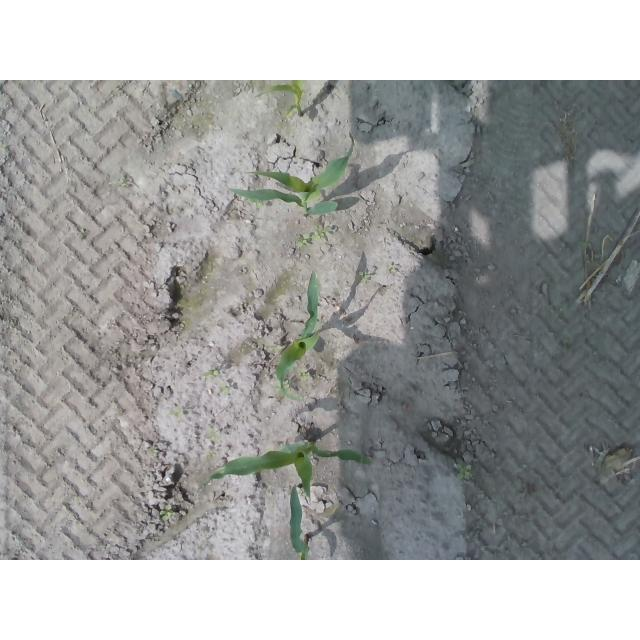Maize: (227, 132, 355, 218), (205, 441, 372, 503), (271, 271, 323, 402), (253, 82, 306, 119), (287, 485, 312, 560)
Weeds: (454, 463, 474, 481), (159, 503, 177, 521), (312, 227, 330, 242), (207, 426, 221, 442), (113, 176, 128, 189), (298, 233, 311, 248), (204, 368, 221, 379), (385, 261, 400, 273), (297, 368, 311, 380), (358, 270, 370, 282), (220, 386, 230, 398)
